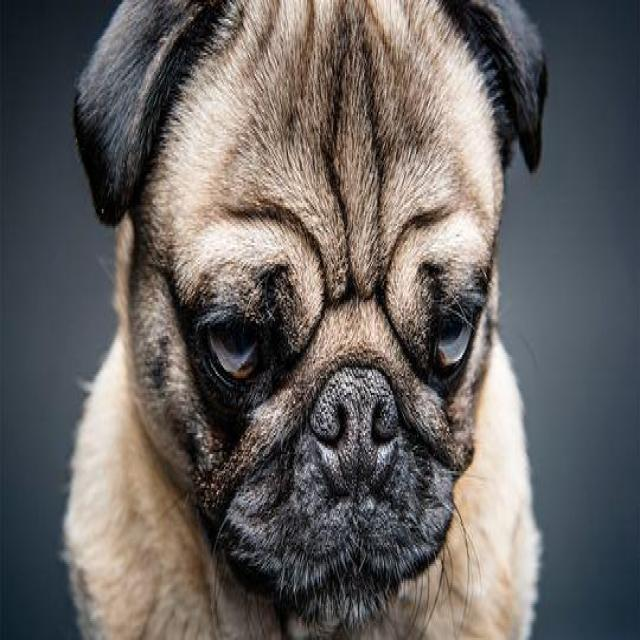Dog: (64, 0, 559, 640)
